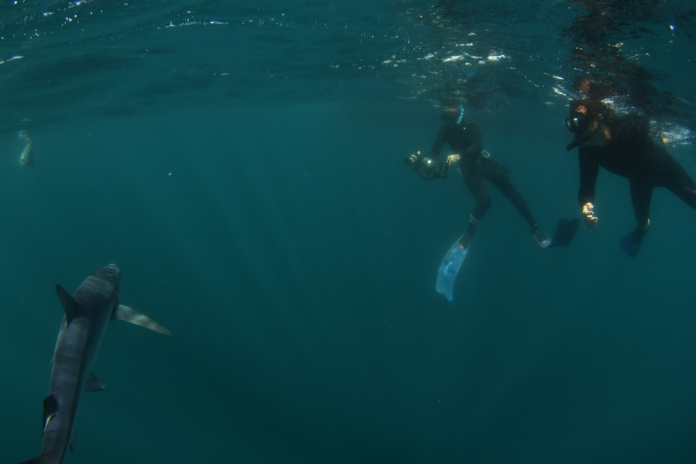Azul: (22, 250, 174, 464)
